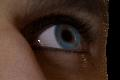eye: (56, 25, 80, 49)
